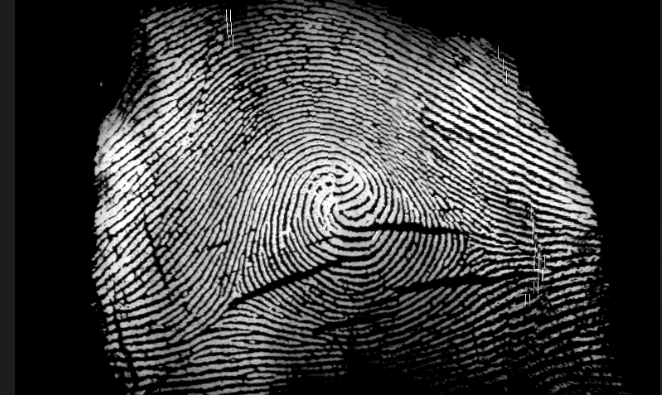nucelo: (312, 158, 365, 203)
verticilo: (218, 273, 257, 310), (456, 233, 480, 256)
